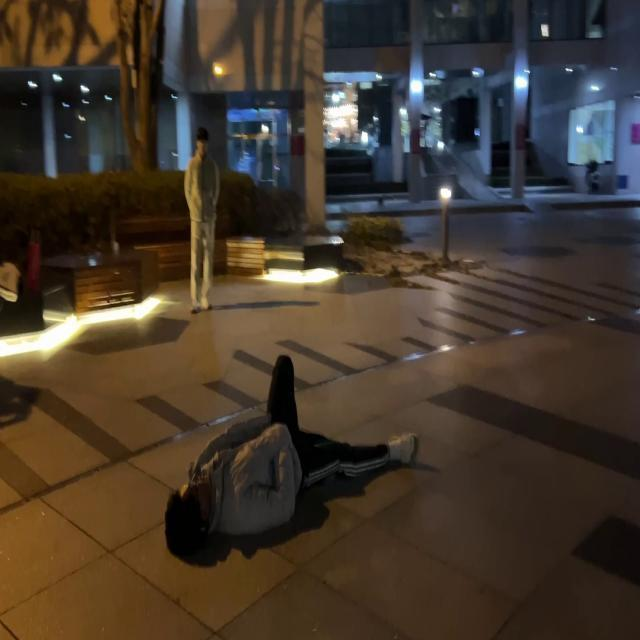Fall: (165, 356, 419, 560)
Stand: (184, 127, 220, 314)
